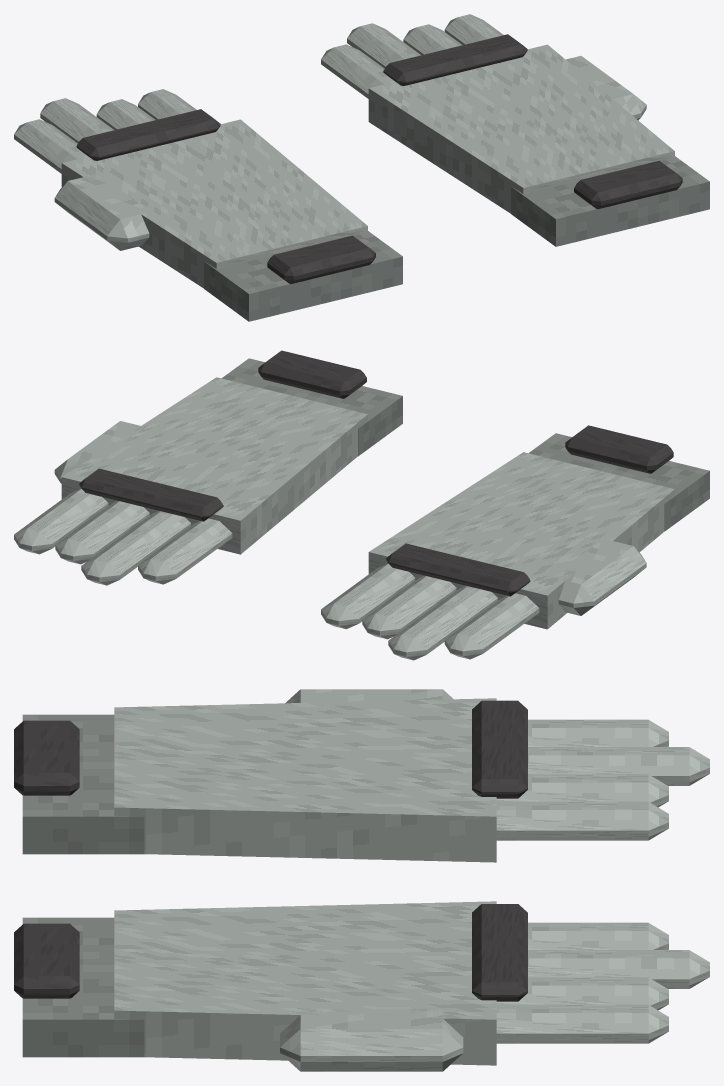
File: thermal_gloves.glb
The picture shows the model from 3 angles, top to bottom: view 1: azimuth 30°, elevation 25°; view 2: azimuth 150°, elevation 25°; view 3: azimuth 270°, elevation 25°; orthographic projection. The views are drawn at different scales.
Visible parts, largest first — view 1: block_glove palm (×2), block_cuff (×2), block_finger (×8), block_reinforced knuckle panel (×2), block_adjustable cuff tab (×2), block_thumb (×2); view 2: block_glove palm (×2), block_finger (×8), block_cuff (×2), block_reinforced knuckle panel (×2), block_adjustable cuff tab (×2), block_thumb (×2); view 3: block_glove palm (×2), block_finger (×8), block_cuff (×2), block_thumb (×2), block_reinforced knuckle panel (×2), block_adjustable cuff tab (×2).
Boxes of the visible parts, x1,y1,x2,y2 form: block_glove palm (×2): [61, 44, 674, 288]; block_cuff (×2): [204, 156, 709, 321]; block_finger (×8): [14, 14, 503, 173]; block_reinforced knuckle panel (×2): [76, 34, 527, 160]; block_adjustable cuff tab (×2): [267, 160, 682, 283]; block_thumb (×2): [54, 56, 646, 250]; block_glove palm (×2): [61, 377, 674, 629]; block_finger (×8): [14, 488, 539, 660]; block_cuff (×2): [221, 358, 709, 530]; block_reinforced knuckle panel (×2): [79, 468, 530, 596]; block_adjustable cuff tab (×2): [258, 350, 673, 473]; block_thumb (×2): [54, 421, 646, 615]; block_glove palm (×2): [114, 698, 496, 1065]; block_finger (×8): [496, 719, 709, 1043]; block_cuff (×2): [22, 714, 144, 1057]; block_thumb (×2): [280, 689, 463, 1071]; block_reinforced knuckle panel (×2): [472, 700, 527, 1001]; block_adjustable cuff tab (×2): [14, 720, 79, 998].
Size of the model in its own units: 0.2762 by 0.0225 by 0.2276.
Materials: 1 (1 with a texture image).
